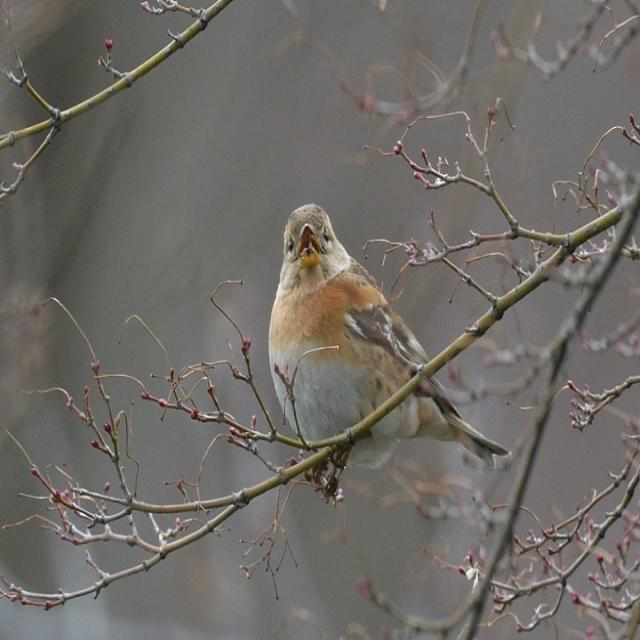bird: (263, 189, 508, 520)
